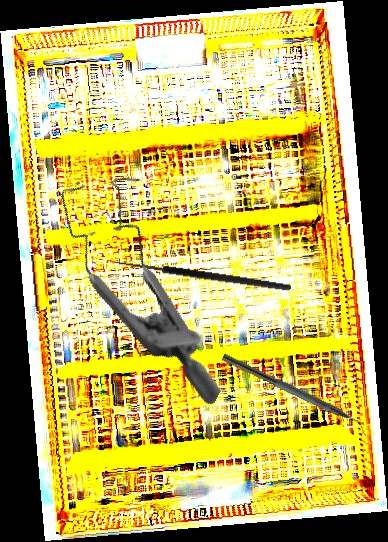Chopper: (216, 353, 375, 440)
Hook Surgical: (109, 257, 292, 301)
Speculum: (6, 150, 291, 407)
